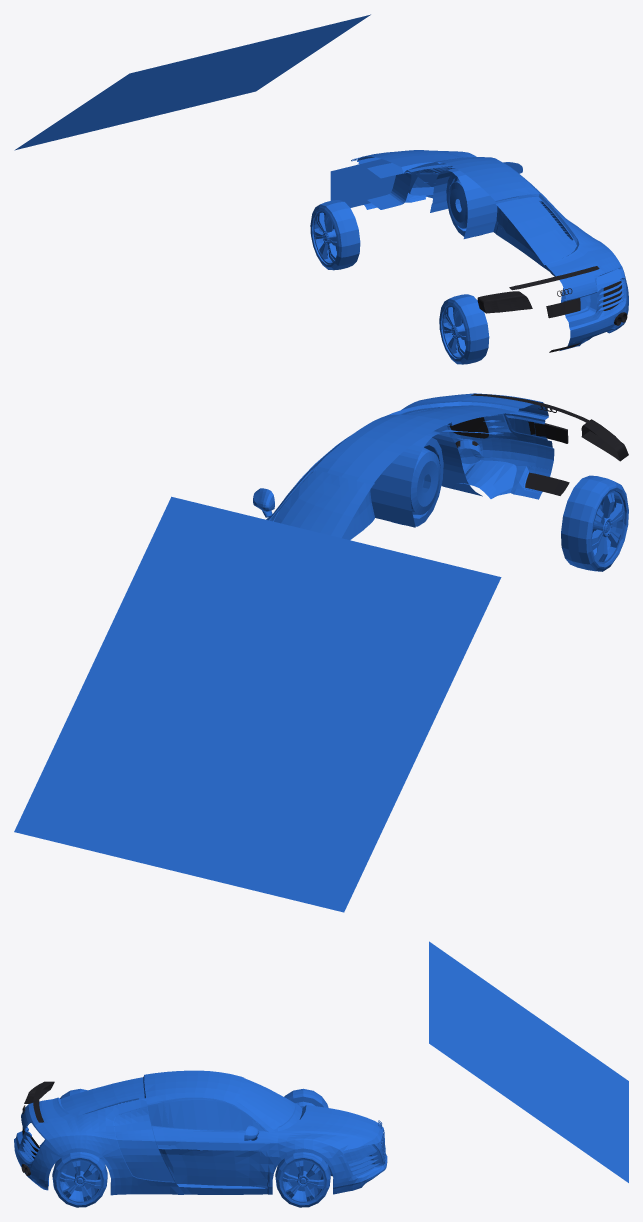
File: vehicle_audi_r8.glb
3 views of the same model, one above another, from view 1: azimuth 30°, elevation 25°; view 2: azimuth 150°, elevation 25°; view 3: azimuth 270°, elevation 25° (orthographic). The views are drawn at different scales.
Parts seen in each view (by area): view 1: world; view 2: world; view 3: world.
Part boxes in pixels (bbox=[...]): world: bbox=[14, 14, 628, 364]; world: bbox=[14, 393, 628, 912]; world: bbox=[14, 941, 628, 1207].
Bounding box in the file's own units: 2.12 × 1.22 × 4.55.
